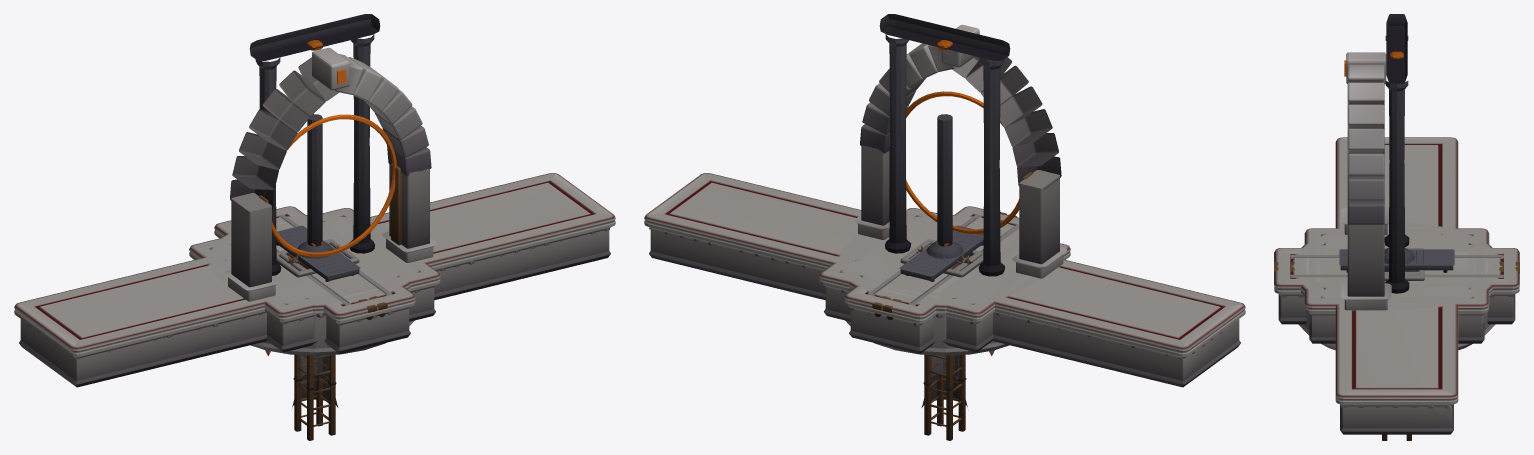
The model's file is fortress-5-vThkZjvo.glb.
The picture shows the model from 3 angles, left to right: view 1: azimuth 30°, elevation 25°; view 2: azimuth 150°, elevation 25°; view 3: azimuth 270°, elevation 25°; orthographic projection. The views are drawn at different scales.
Visible parts, largest first — view 1: block_40x2x8#0, portal_#0, block_12x2x12#0, pressFrame_5x6x2x7#0, block_6x2x16#0, disc_14x1.5#0, truss_11.8#0, press_8x6x1.5#0, burner_2x1.2x7#0, block_7x2x12#0, support_0_round#0, belt_3.5x1.5x14x0#0; view 2: block_40x2x8#0, portal_#0, pressFrame_5x6x2x7#0, block_12x2x12#0, block_6x2x16#0, disc_14x1.5#0, truss_11.8#0, press_8x6x1.5#0, burner_2x1.2x7#0, block_7x2x12#0, support_0_round#0, belt_3.5x1.5x14x0#0; view 3: block_40x2x8#0, portal_#0, block_12x2x12#0, pressFrame_5x6x2x7#0, block_6x2x16#0, disc_14x1.5#0, burner_2x1.2x7#0, block_7x2x12#0, belt_3.5x1.5x14x0#0.
Boxes of the visible parts, box(x1,y1,x2,y2) form: block_40x2x8#0: box(14, 173, 615, 387); portal_#0: box(224, 47, 437, 301); block_12x2x12#0: box(189, 208, 440, 352); pressFrame_5x6x2x7#0: box(249, 14, 380, 275); block_6x2x16#0: box(214, 206, 415, 353); disc_14x1.5#0: box(207, 215, 420, 355); truss_11.8#0: box(293, 354, 336, 440); press_8x6x1.5#0: box(265, 114, 322, 356); burner_2x1.2x7#0: box(276, 225, 360, 281); block_7x2x12#0: box(227, 218, 401, 302); support_0_round#0: box(292, 355, 338, 407); belt_3.5x1.5x14x0#0: box(276, 214, 392, 305); block_40x2x8#0: box(644, 173, 1245, 387); portal_#0: box(854, 24, 1067, 278); pressFrame_5x6x2x7#0: box(879, 14, 1010, 276); block_12x2x12#0: box(819, 208, 1070, 352); block_6x2x16#0: box(844, 206, 1019, 353); disc_14x1.5#0: box(837, 215, 1039, 355); truss_11.8#0: box(923, 354, 966, 440); press_8x6x1.5#0: box(937, 114, 994, 356); burner_2x1.2x7#0: box(899, 225, 983, 281); block_7x2x12#0: box(858, 218, 1019, 302); support_0_round#0: box(921, 355, 967, 407); belt_3.5x1.5x14x0#0: box(867, 214, 1019, 305); block_40x2x8#0: box(1335, 137, 1458, 434); portal_#0: box(1341, 52, 1391, 311); block_12x2x12#0: box(1304, 228, 1489, 343); pressFrame_5x6x2x7#0: box(1384, 14, 1409, 293); block_6x2x16#0: box(1274, 248, 1519, 324); disc_14x1.5#0: box(1290, 223, 1503, 350); burner_2x1.2x7#0: box(1339, 249, 1454, 272); block_7x2x12#0: box(1310, 244, 1482, 289); belt_3.5x1.5x14x0#0: box(1290, 255, 1503, 278).
Size of the model in its own units: 40 by 28.2 by 16.
